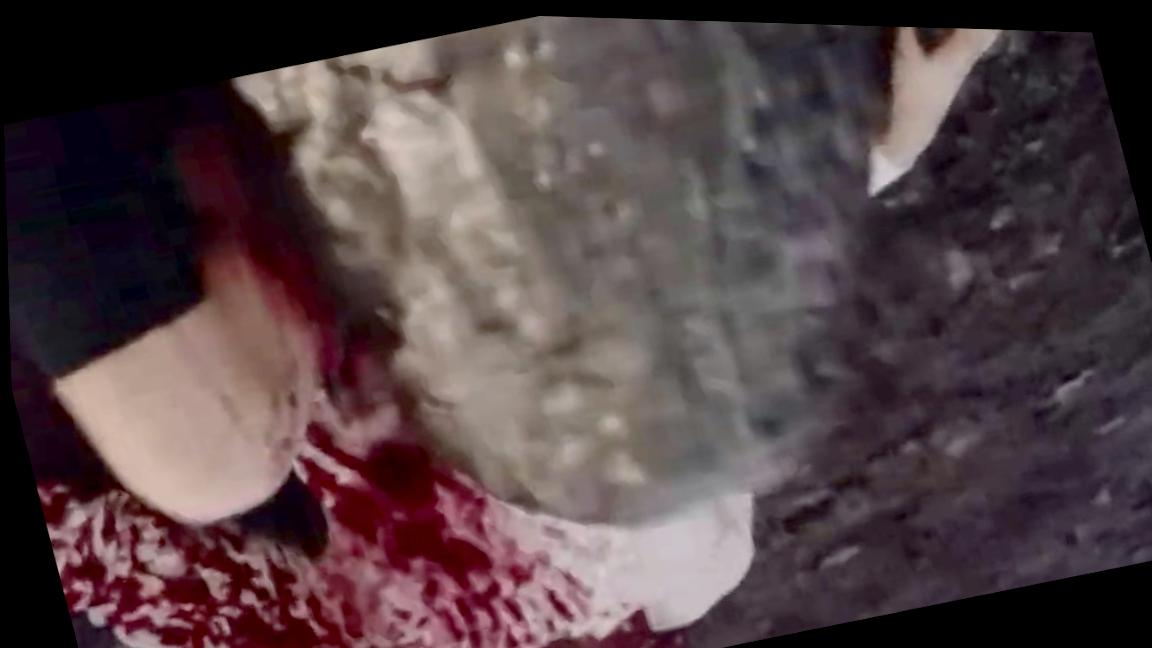Fire: (34, 78, 671, 648)
